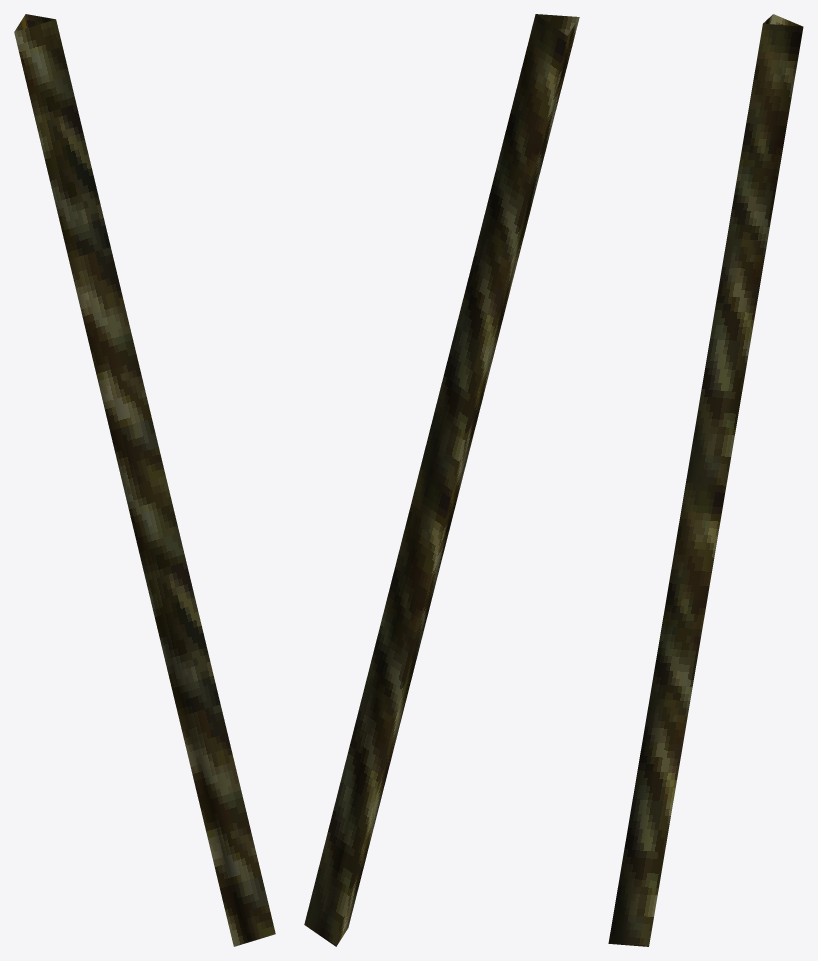
The model's file is OVERHILL_A_01_ROPE_LINE_10.fbx.
The picture shows the model from 3 angles, left to right: view 1: azimuth 30°, elevation 25°; view 2: azimuth 210°, elevation 25°; view 3: azimuth 270°, elevation 25°; orthographic projection. The views are drawn at different scales.
Visible parts, largest first — view 1: OVERHILL_A_01_ROPE_LINE_10; view 2: OVERHILL_A_01_ROPE_LINE_10; view 3: OVERHILL_A_01_ROPE_LINE_10.
Part boxes in pixels (x1,y1,x2,y2): OVERHILL_A_01_ROPE_LINE_10: (14,14,275,946); OVERHILL_A_01_ROPE_LINE_10: (304,14,579,946); OVERHILL_A_01_ROPE_LINE_10: (608,14,803,946).
Bounding box in the file's own units: 2162 × 10549 × 2162.
Materials: 1 (1 with a texture image).
